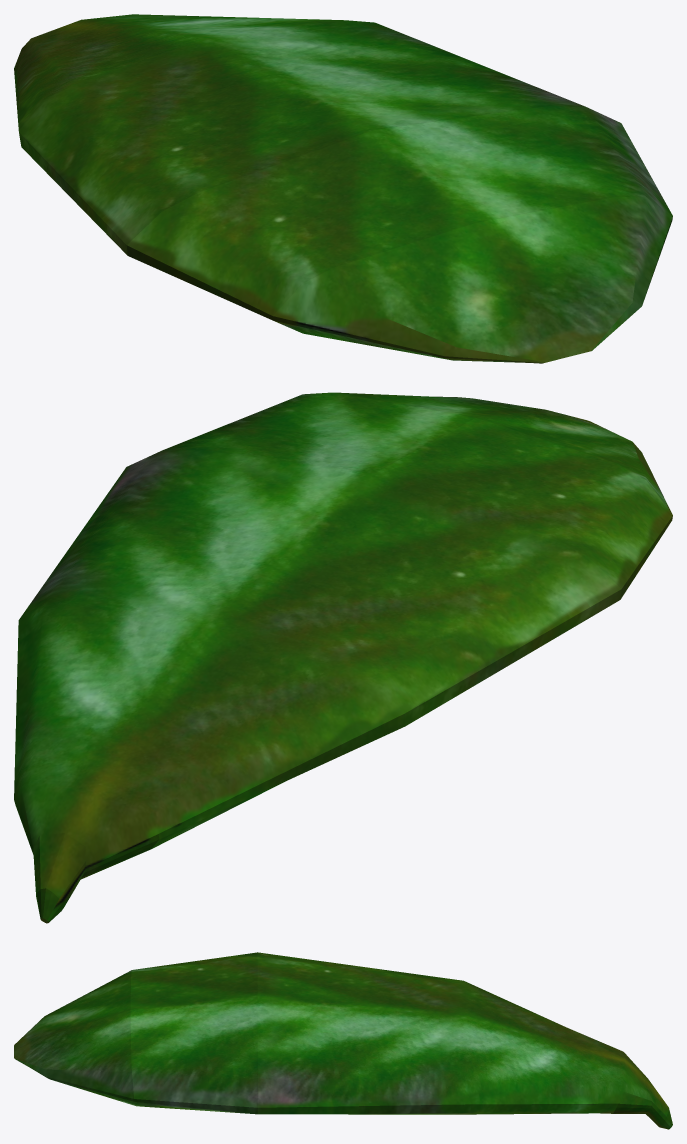
File: violetLeaf.fbx
The picture shows the model from 3 angles, top to bottom: view 1: azimuth 30°, elevation 25°; view 2: azimuth 150°, elevation 25°; view 3: azimuth 270°, elevation 25°; orthographic projection. The views are drawn at different scales.
Parts seen in each view (by area): view 1: pPlane9; view 2: pPlane9; view 3: pPlane9.
Part boxes in pixels (bbox=[...]): pPlane9: bbox=[14, 14, 672, 363]; pPlane9: bbox=[14, 392, 672, 923]; pPlane9: bbox=[14, 952, 672, 1129].
Bounding box in the file's own units: 0.8752 × 0.3539 × 1.61.
